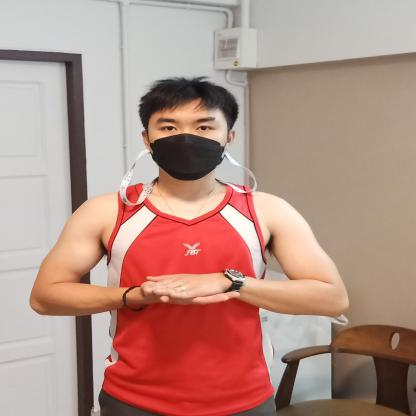Love: (126, 265, 282, 318)
